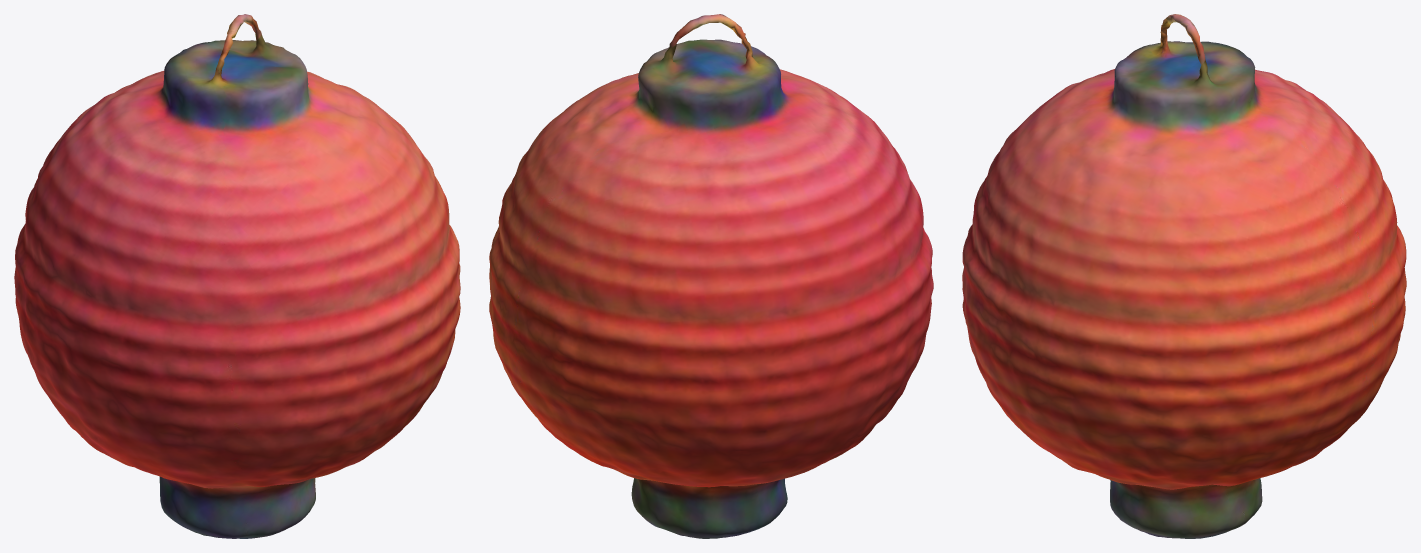
Rendered from Japanese_Paper_Lanter_0712155558_preview.fbx.
3 views of the same model, side by side, from view 1: azimuth 30°, elevation 25°; view 2: azimuth 150°, elevation 25°; view 3: azimuth 270°, elevation 25° (orthographic).
Parts seen in each view (by area): view 1: Mesh1; view 2: Mesh1; view 3: Mesh1.
Boxes of the visible parts, x1,y1,x2,y2 form: Mesh1: (14, 14, 460, 538); Mesh1: (489, 14, 933, 538); Mesh1: (962, 14, 1406, 538).
Size of the model in its own units: 95.23 by 120 by 95.08.
Materials: 1 (1 with a texture image).
